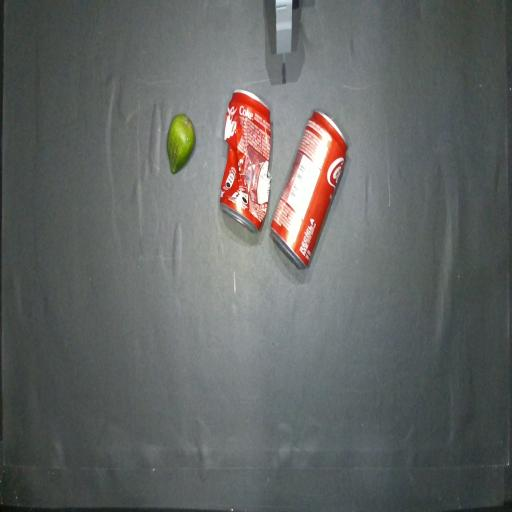higo: (167, 114, 195, 174)
lata: (271, 111, 347, 268)
lata_defectuoso: (220, 90, 271, 232)
